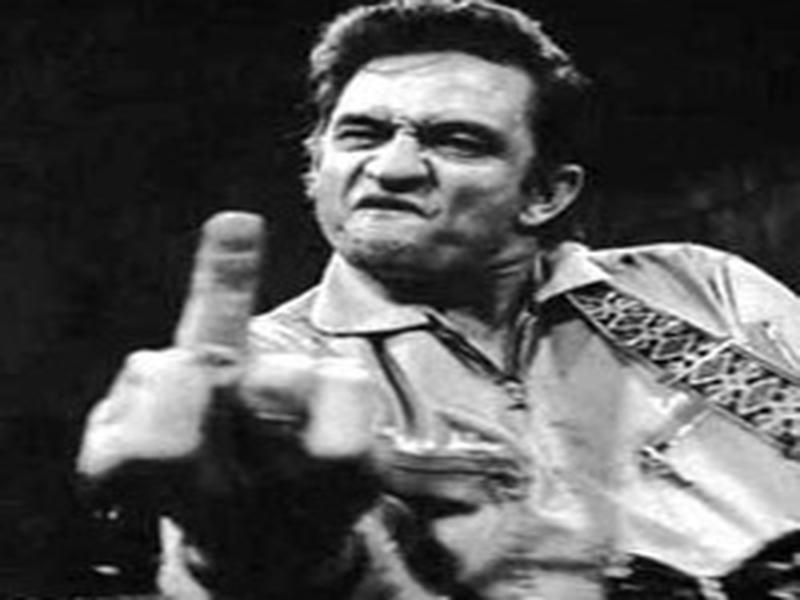flipping_the_bird: (68, 186, 384, 533)
